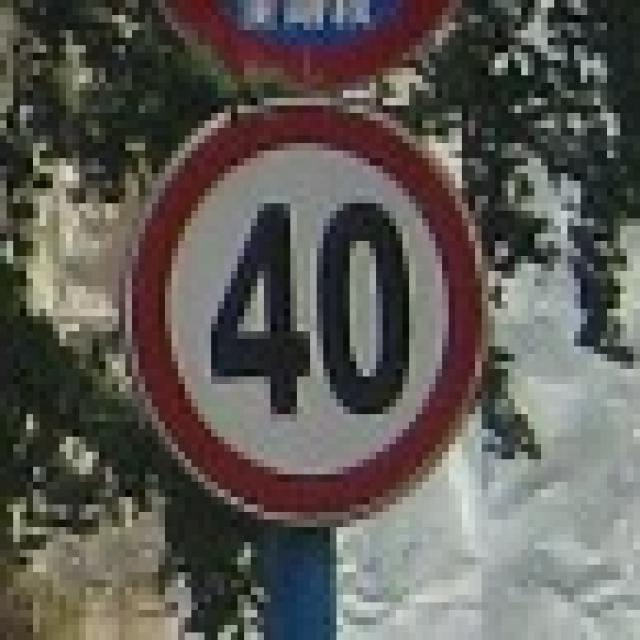Speed Limit -40-: (200, 196, 416, 425)
